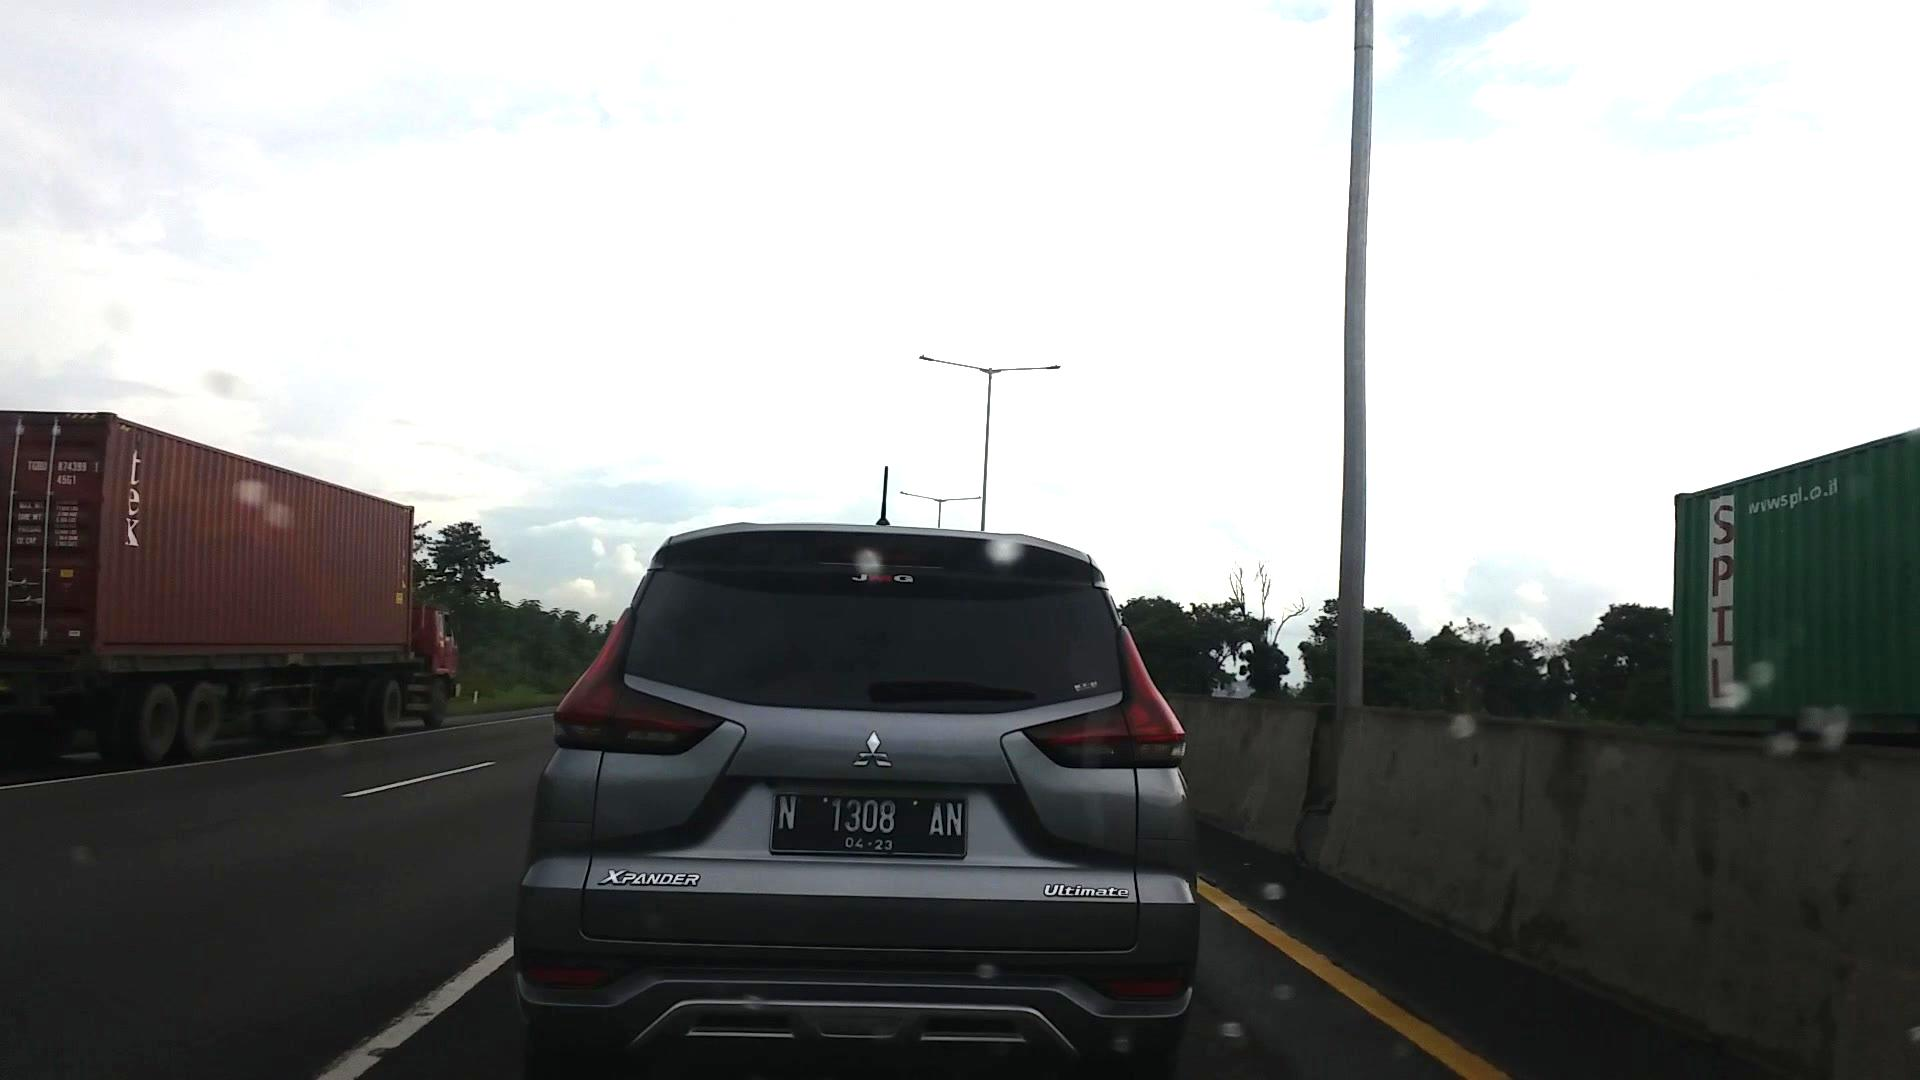plate_positive: (769, 793, 967, 858)
